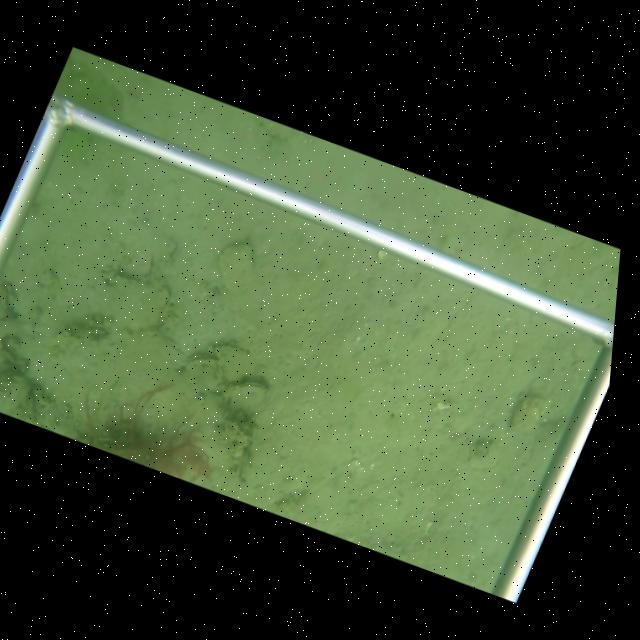Oyster-Closed: (220, 379, 268, 418), (185, 353, 216, 370)
Oyster-Indeterminate: (79, 262, 171, 328), (214, 242, 256, 297), (212, 340, 257, 379)
